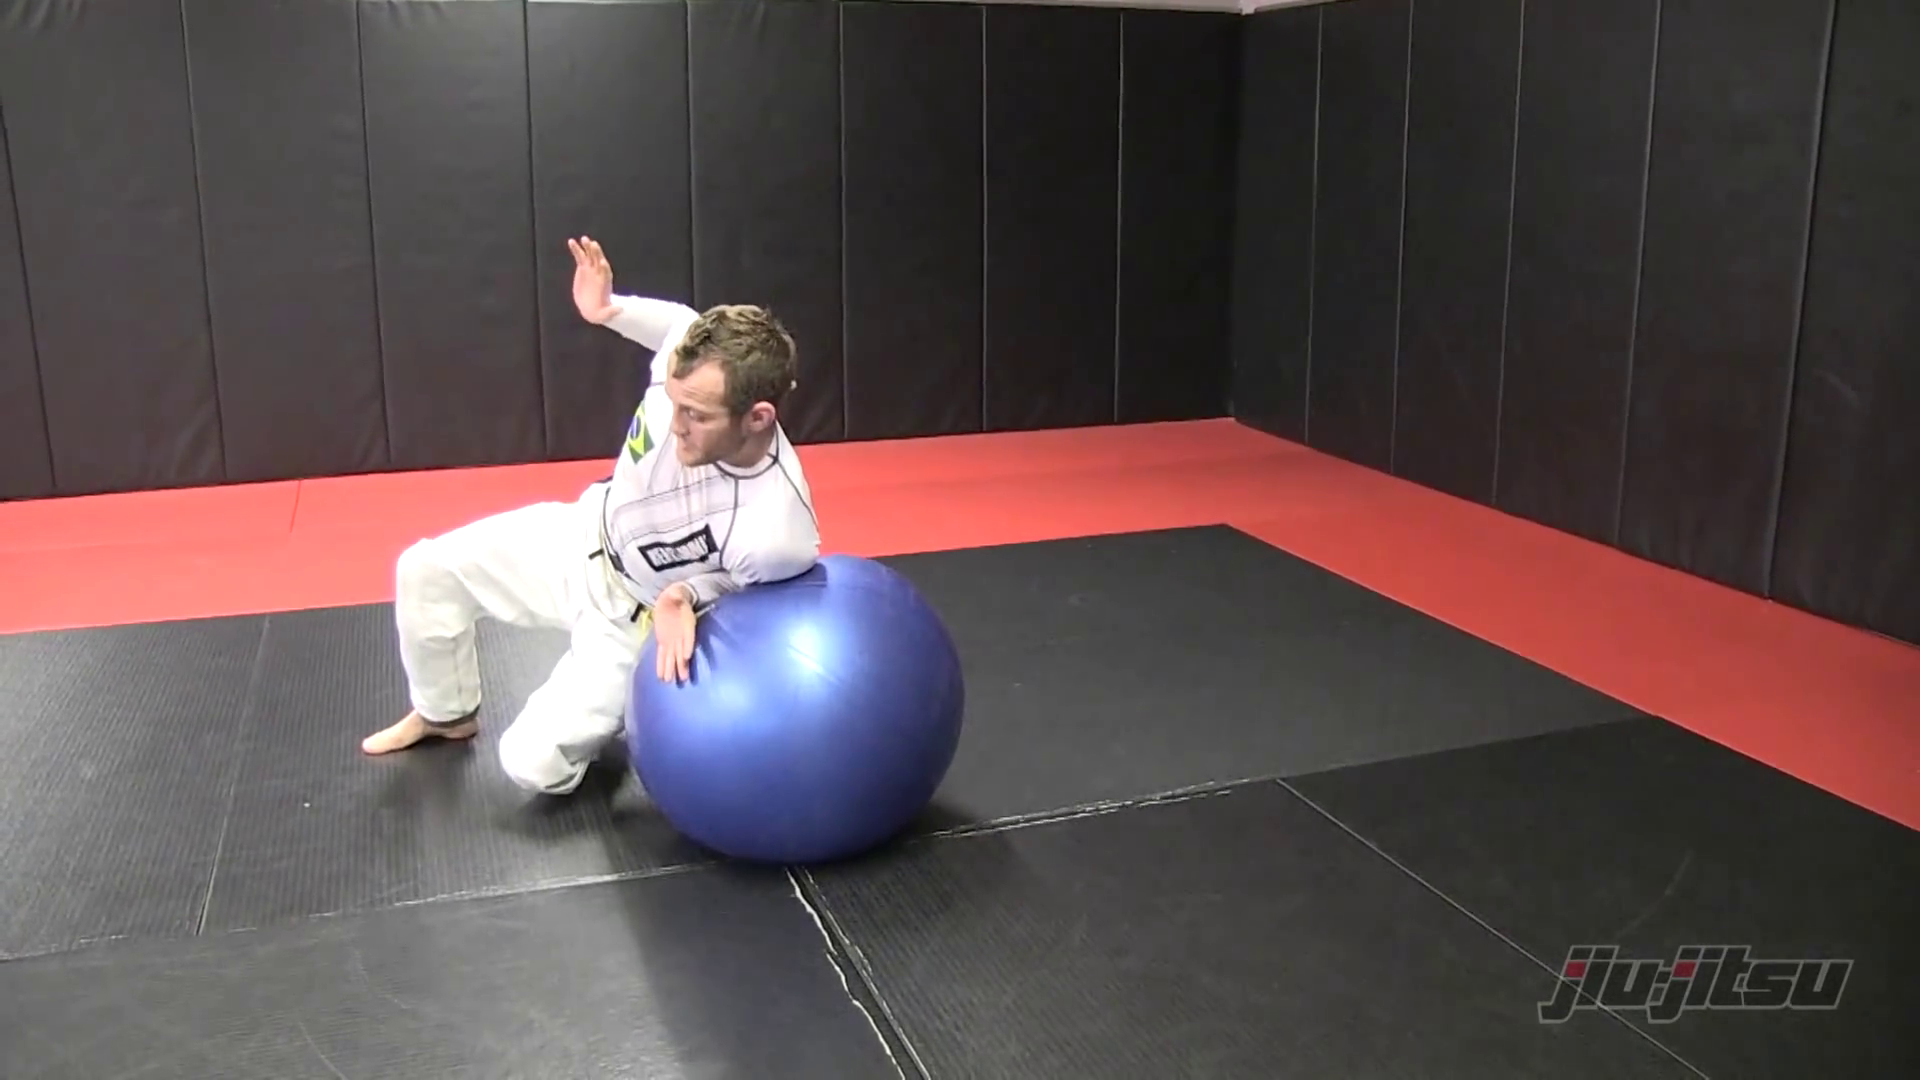yogaball: (622, 549, 989, 881)
